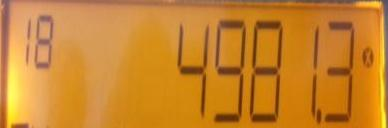0: (315, 110, 323, 124)
2: (310, 23, 321, 120)
4: (324, 21, 354, 124)
5: (174, 21, 211, 117)
9: (248, 19, 285, 124)
:: (211, 18, 247, 124)
